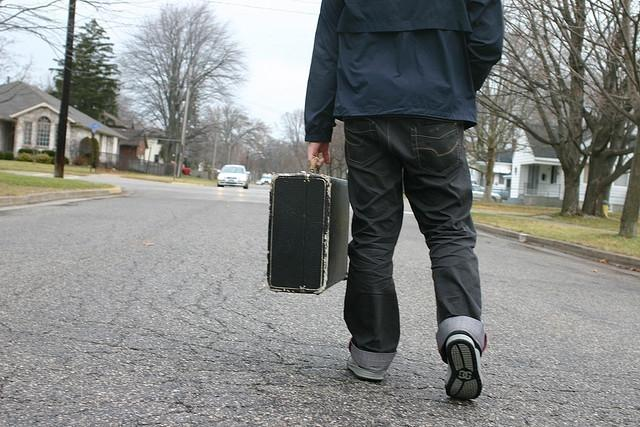car: (218, 165, 252, 188), (472, 184, 503, 203), (167, 160, 193, 176), (260, 173, 272, 185)
